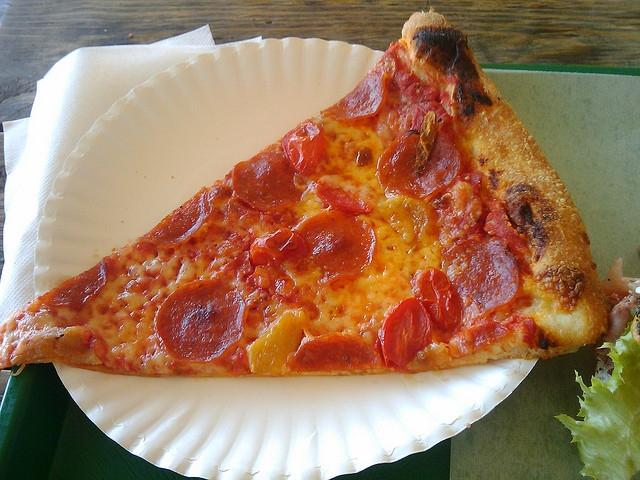lettuce: (552, 320, 640, 480)
